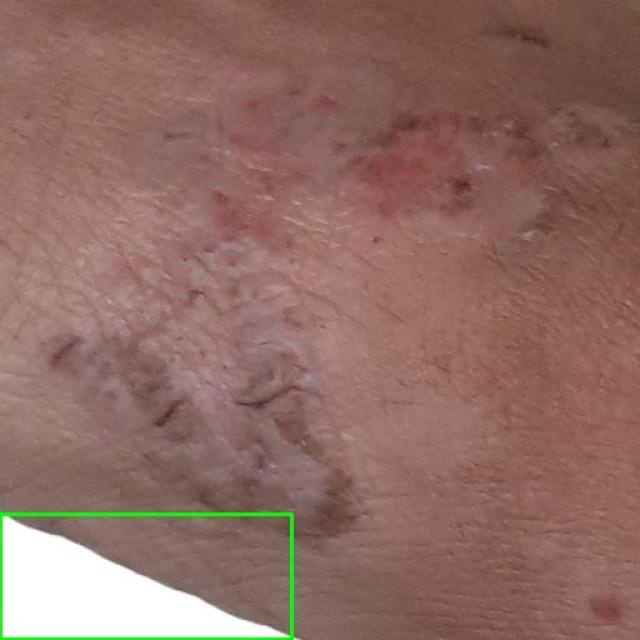Contact Dermatitis: (0, 514, 291, 639)
